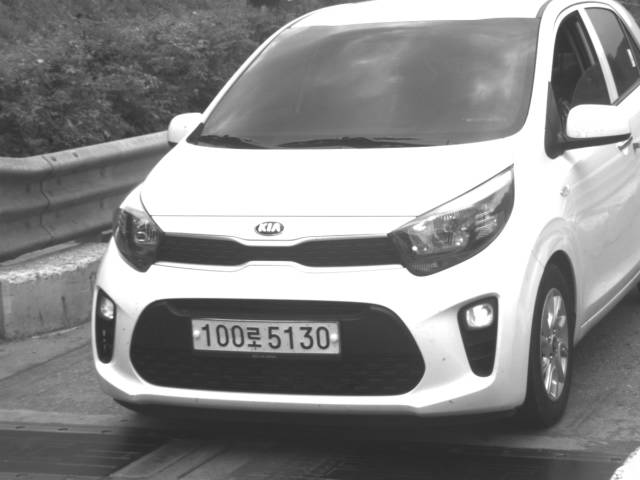car: (88, 1, 638, 429)
plate: (188, 316, 343, 355)
